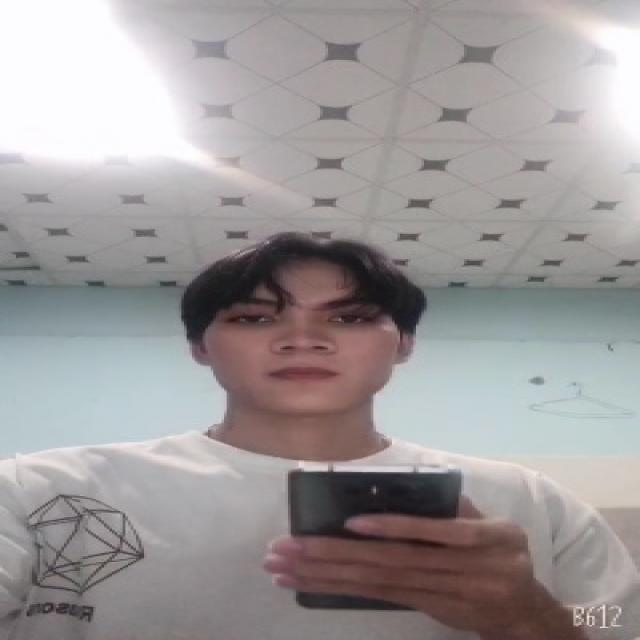Phone: (286, 462, 468, 616)
